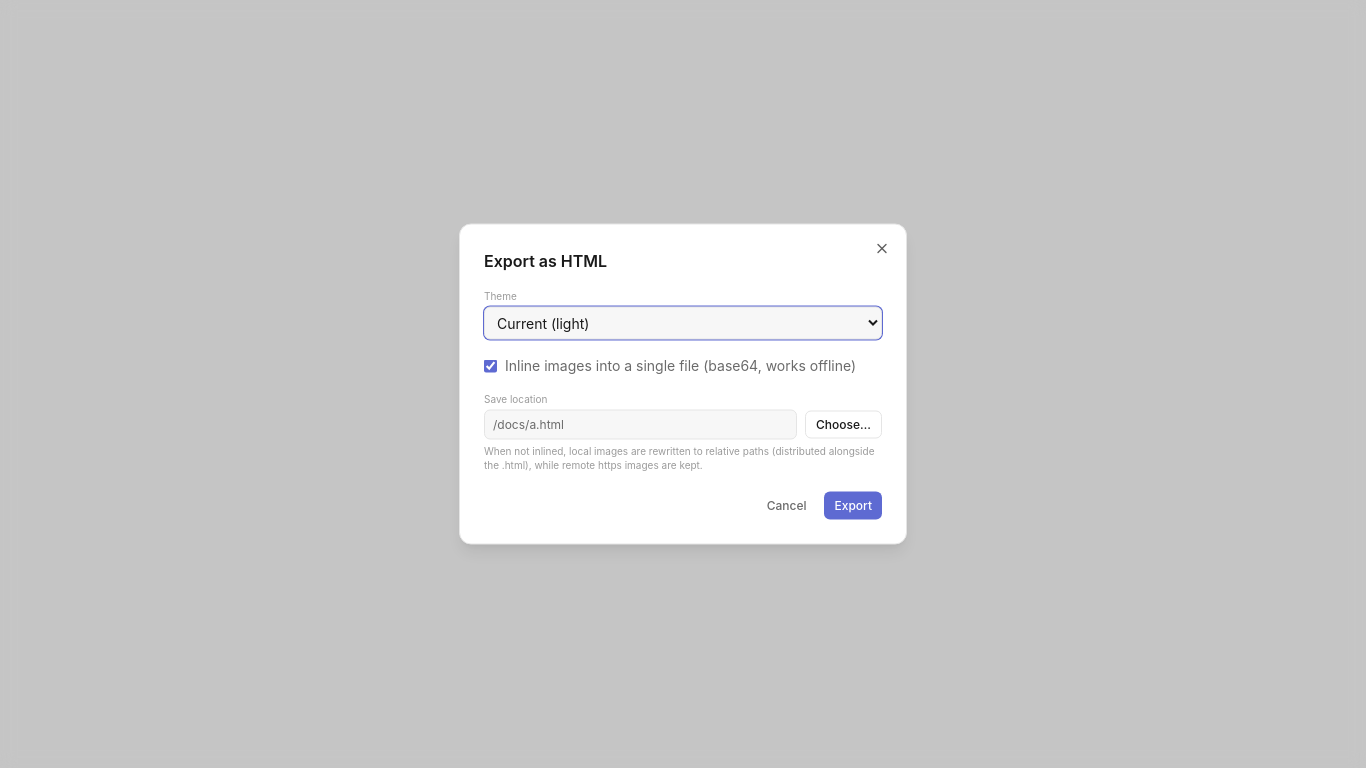
Test case: ExportDialog › shows an error when the preview is not ready
The image size is (1366, 768).
Check: the field showing "/docs/a.html" is shown, box [484,410,797,440]
What coordinates should you click on to do the following:
click the button "Export"
I would click on:
 (853, 506)
Its box is [824,492,882,520].
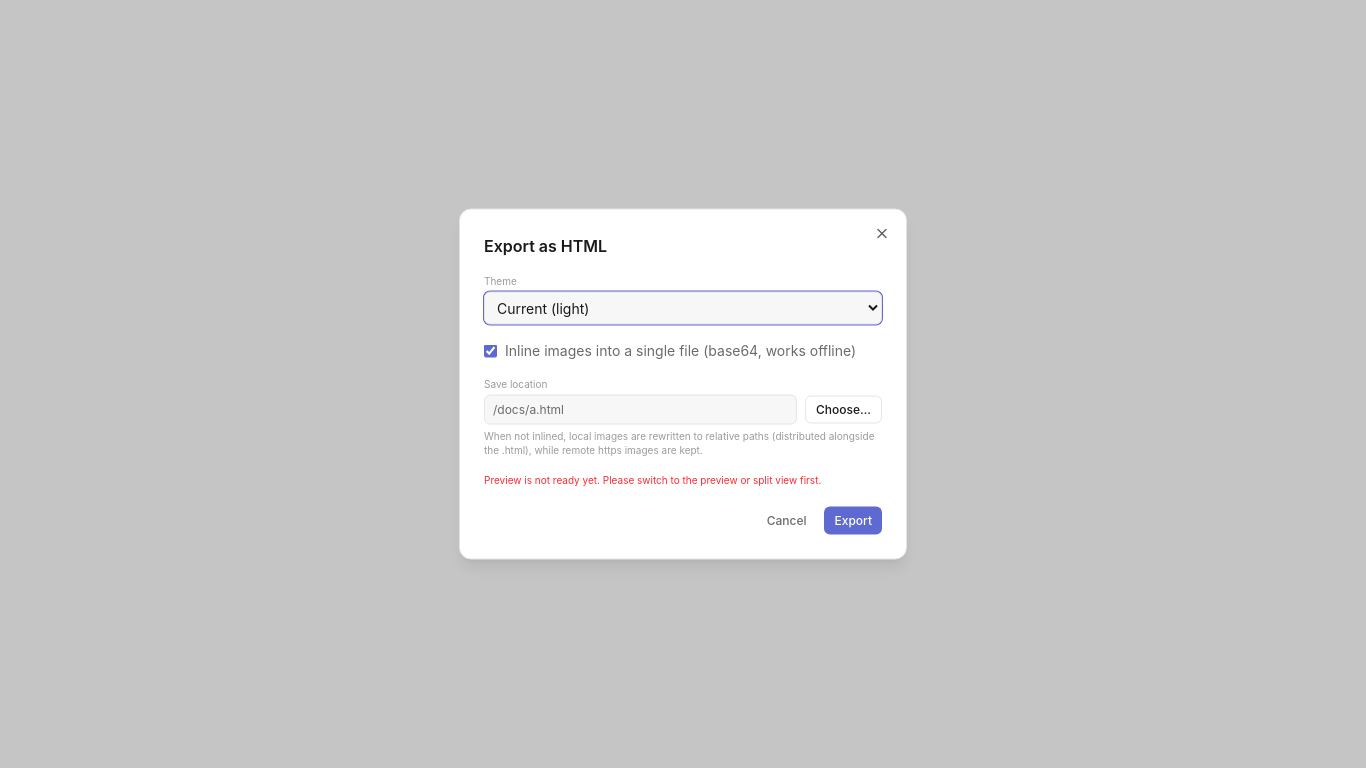
Check: the text "Preview" is shown, box [484,474,821,486]
